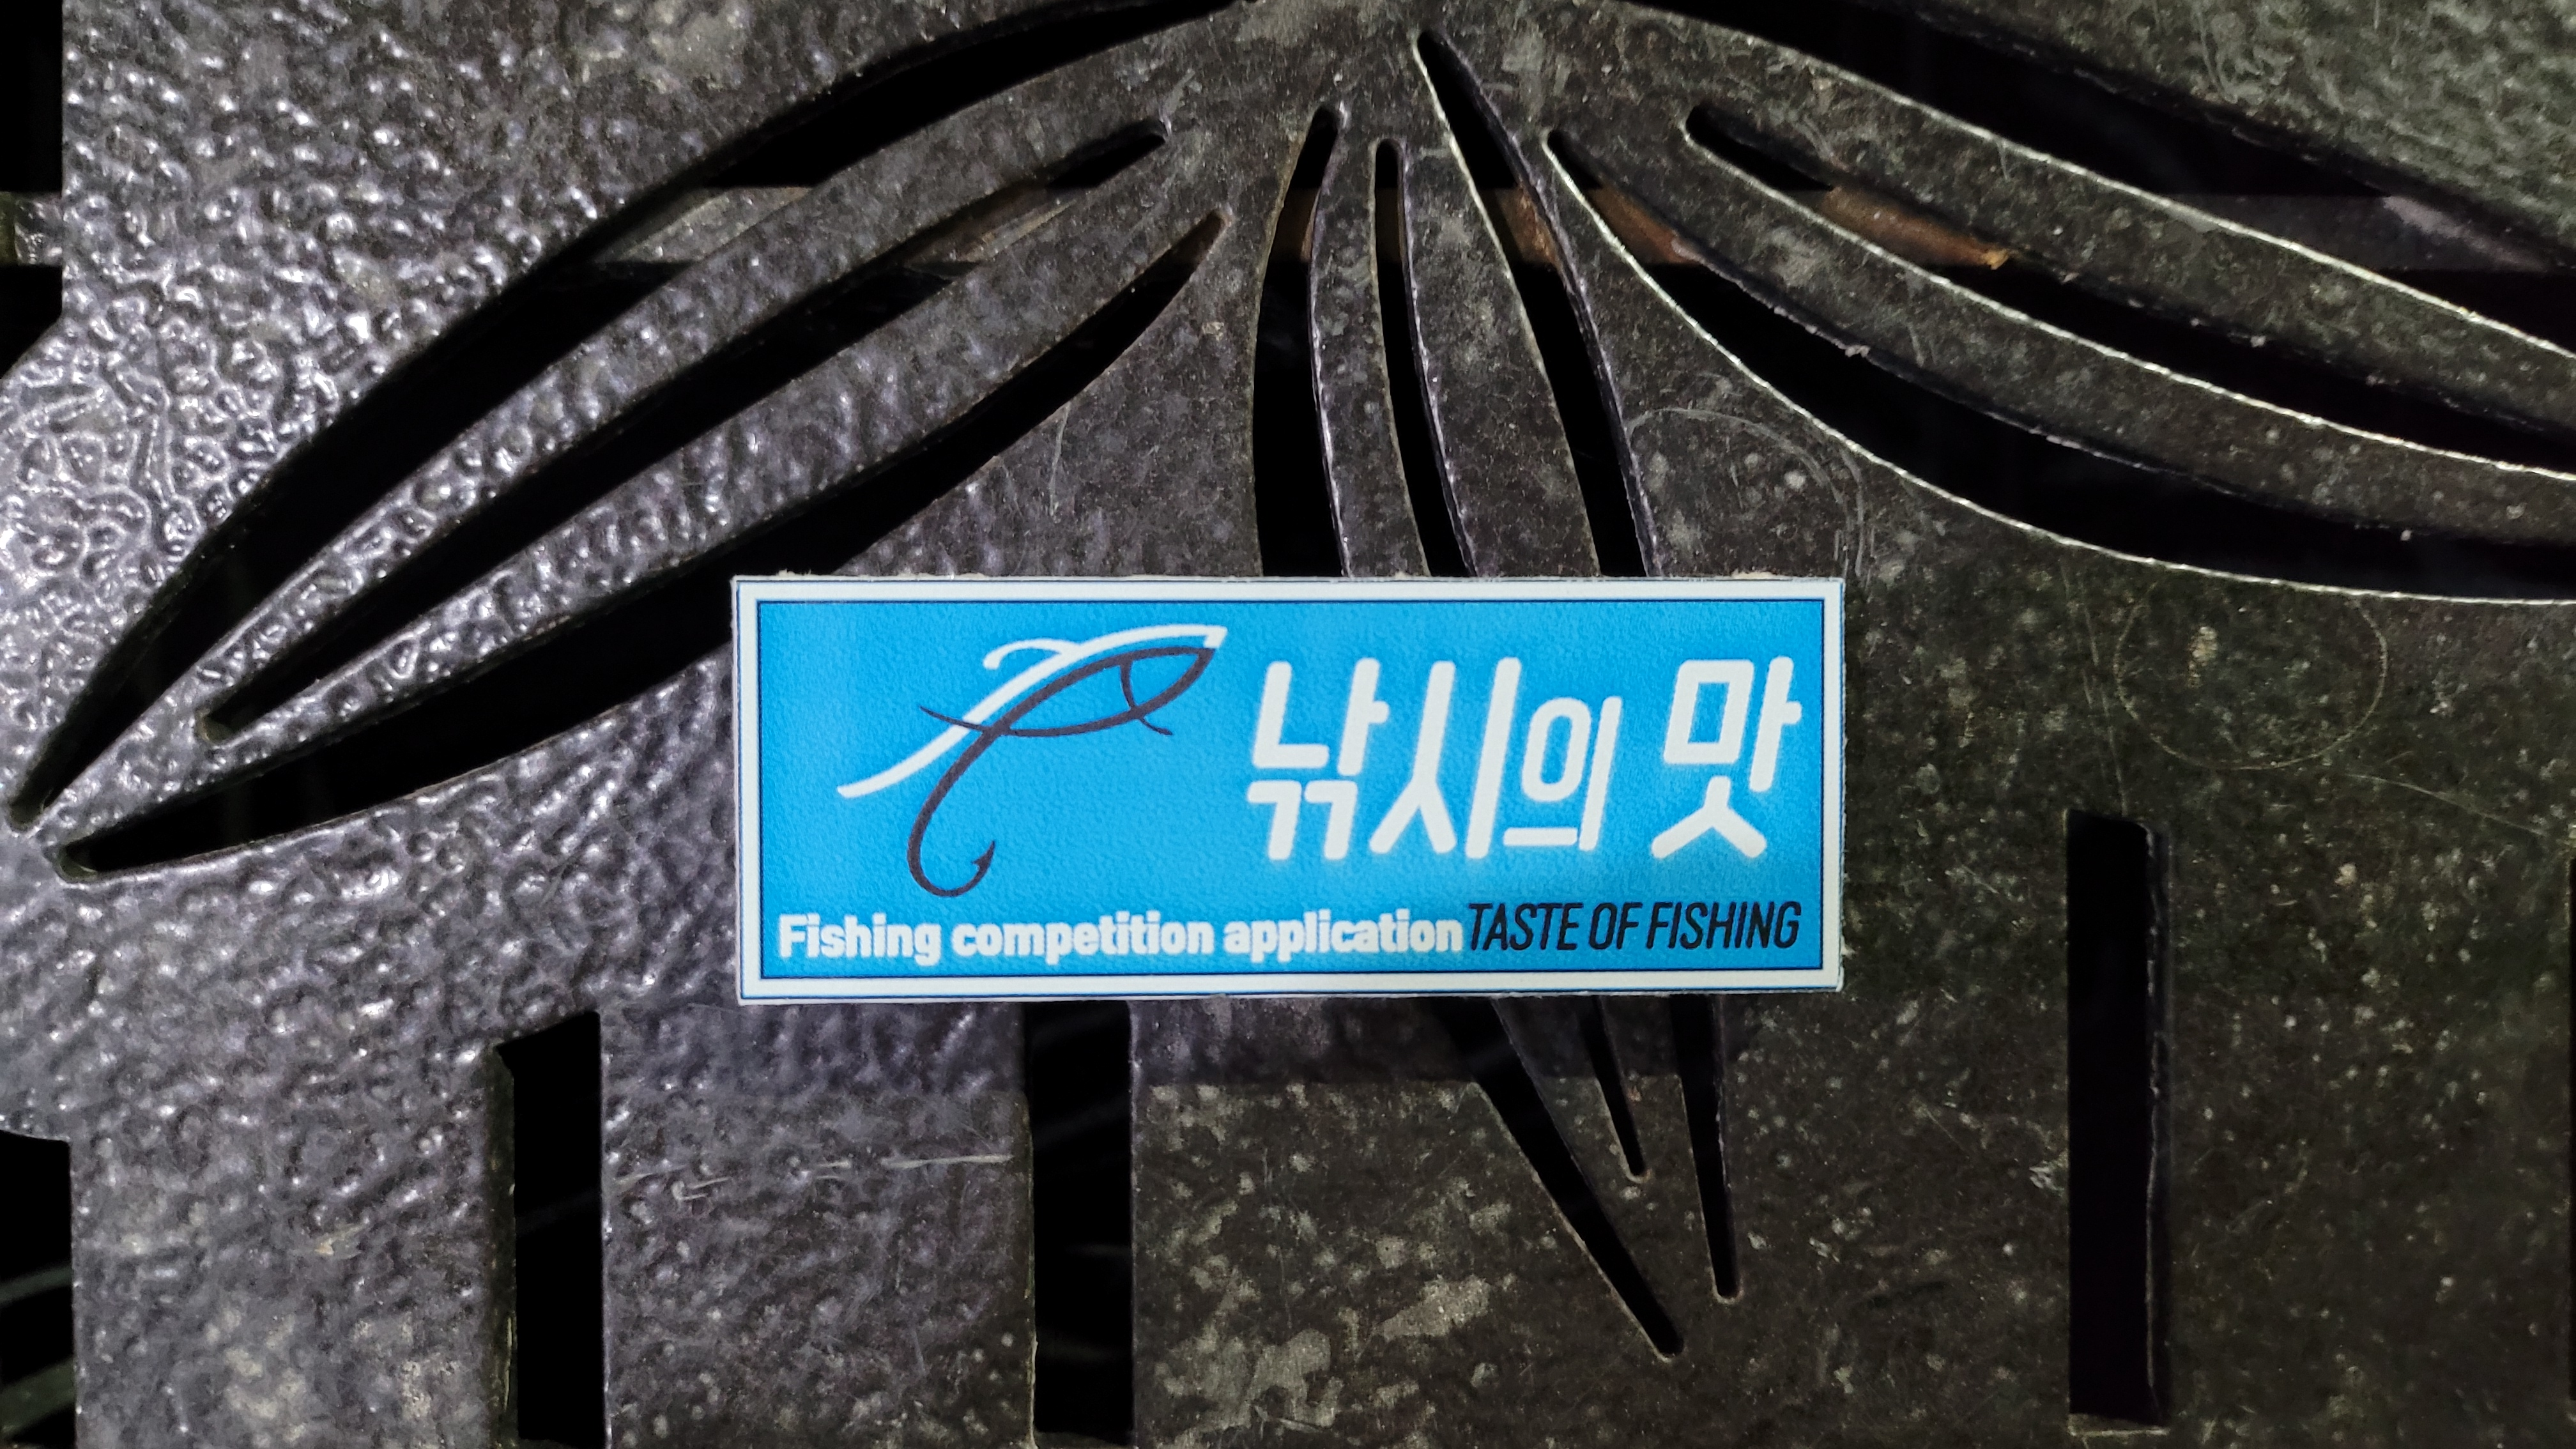tag: (729, 577, 1847, 996)
